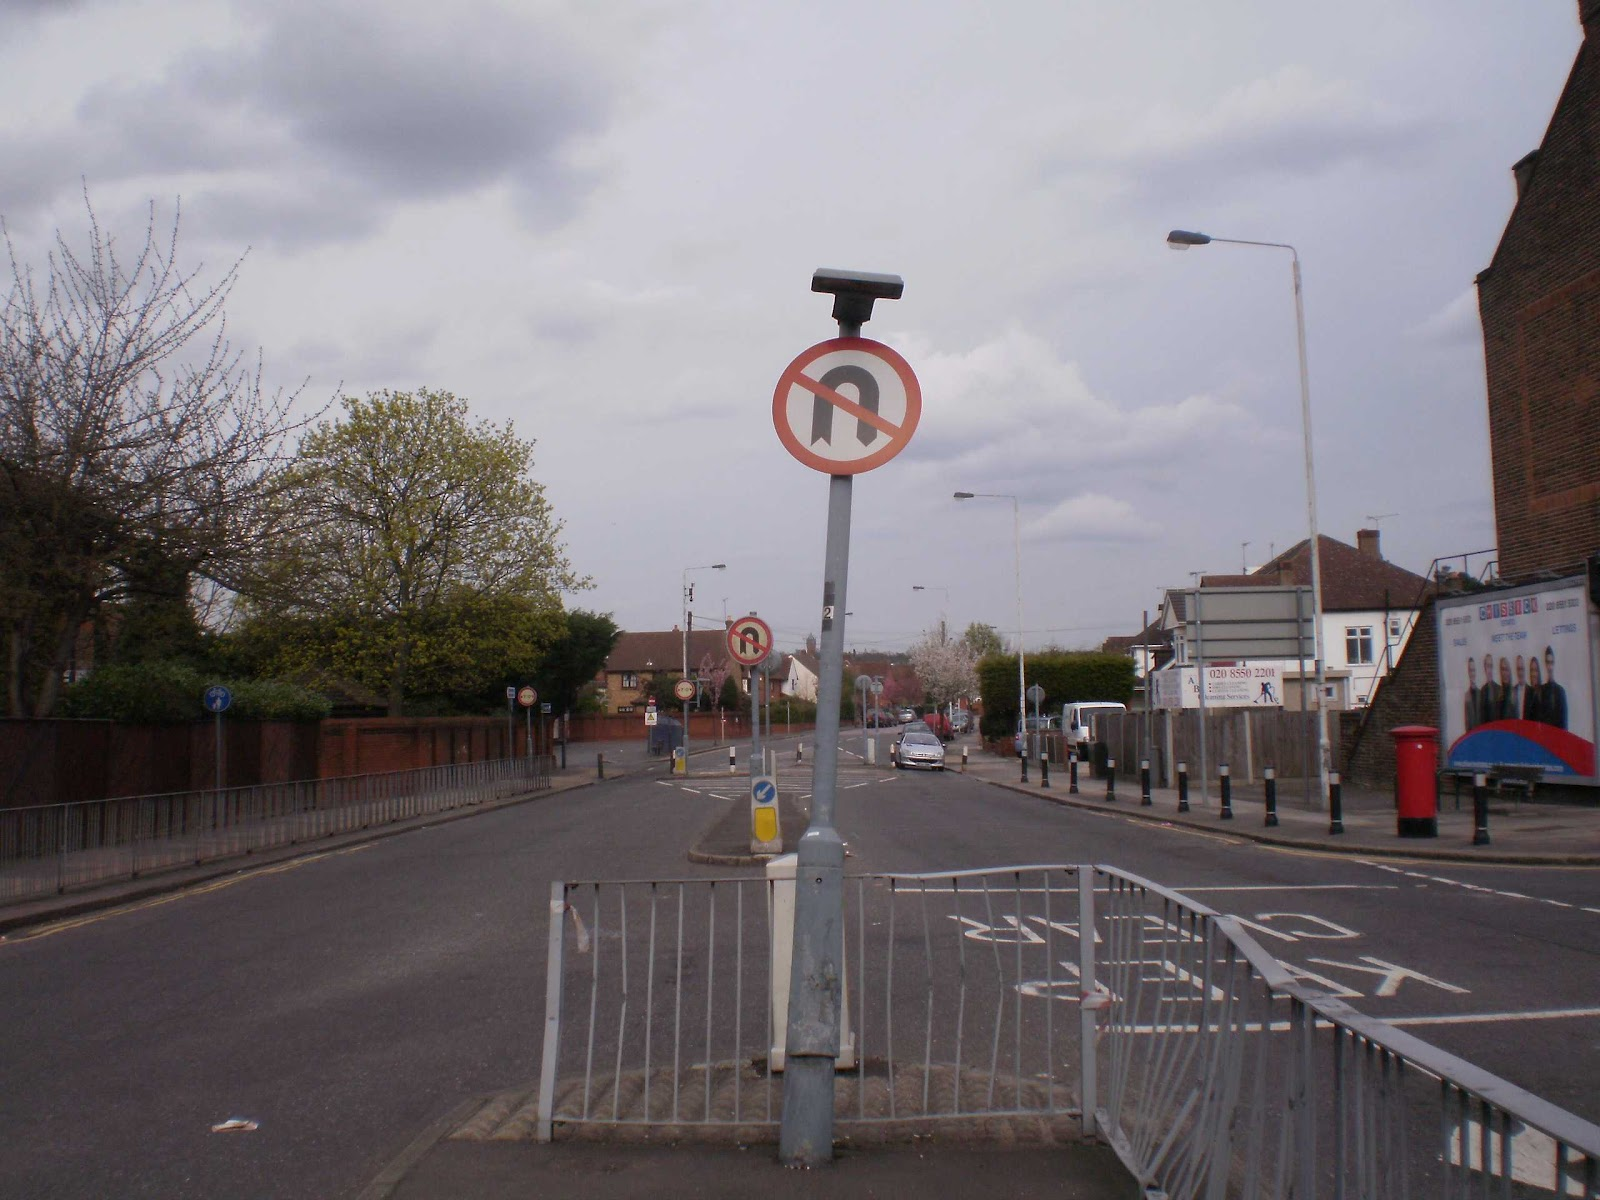No_u_turn: (772, 339, 922, 475)
